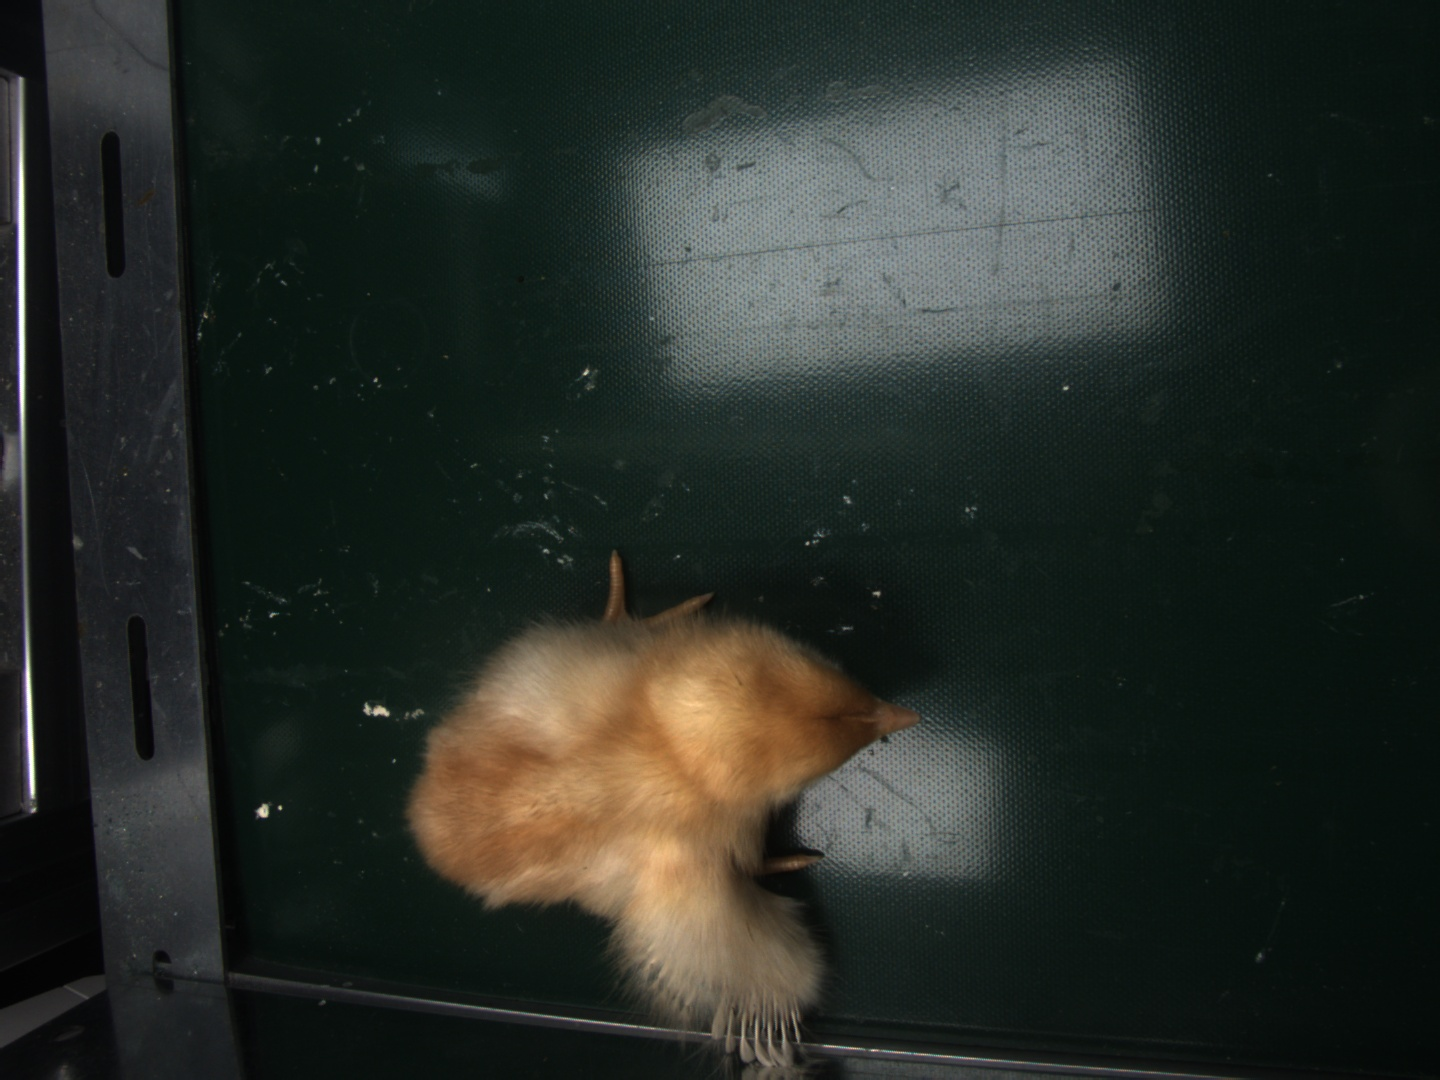female: (712, 992, 805, 1069)
